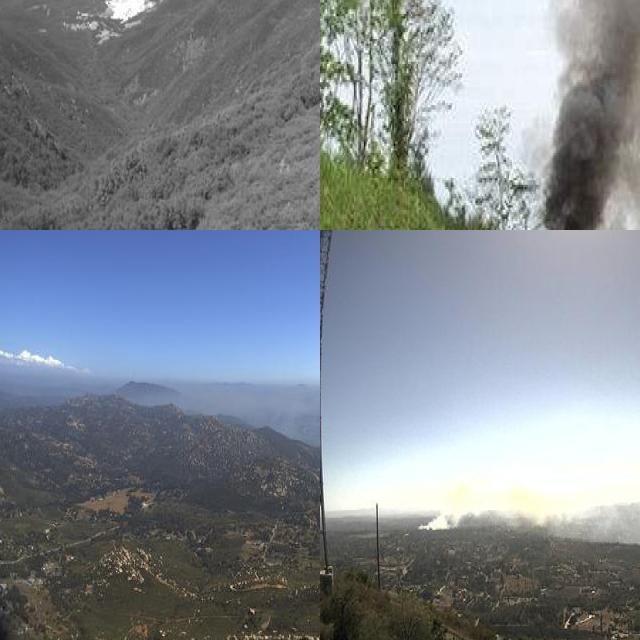smoke: (546, 0, 640, 230), (421, 483, 640, 539)
